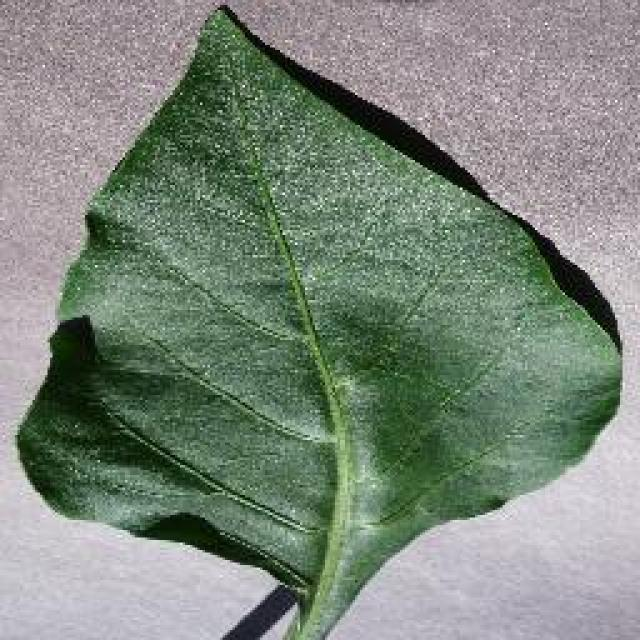Chilli_Healthy: (15, 0, 623, 638)
